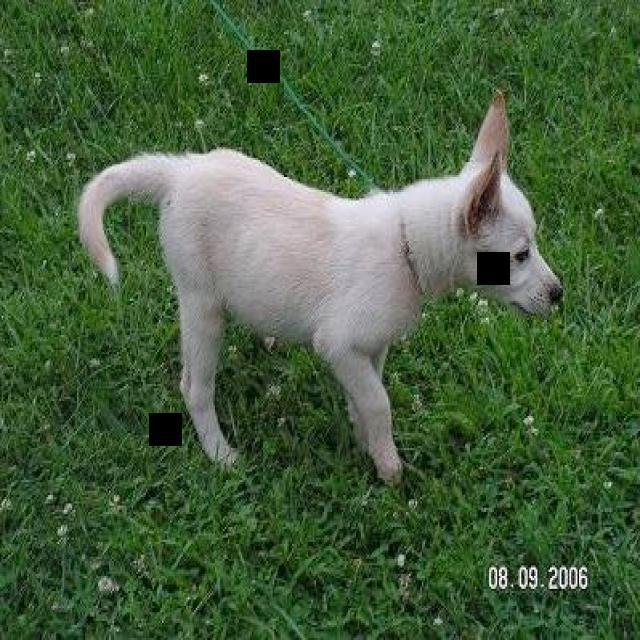puppy-dog: (70, 93, 568, 492)
